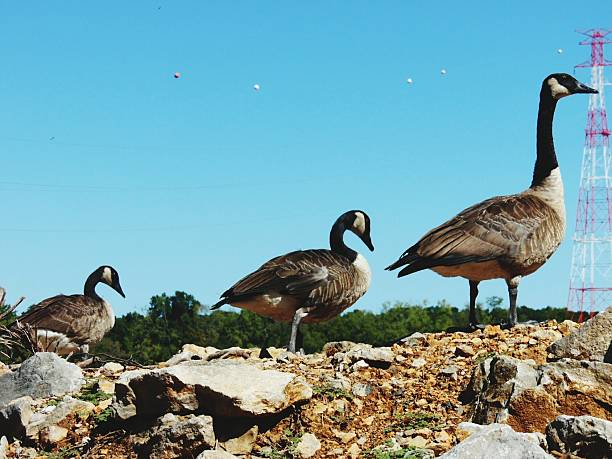goose: (381, 72, 601, 332), (207, 208, 376, 363), (3, 263, 128, 359)
